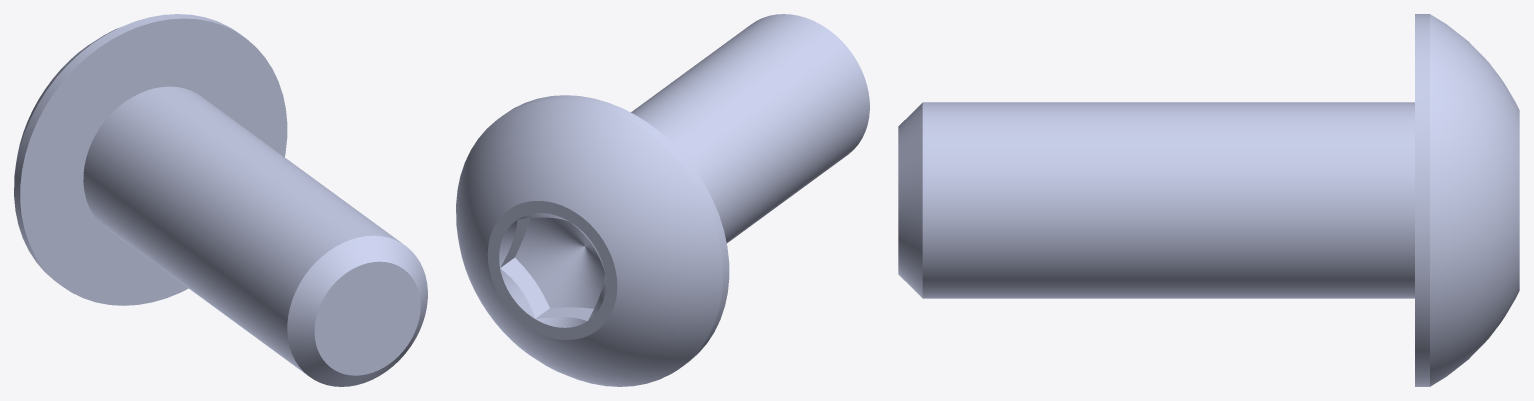
The model's file is Cut_Extrude2.obj.
3 renders of one model, left to right at view 1: azimuth 30°, elevation 25°; view 2: azimuth 150°, elevation 25°; view 3: azimuth 270°, elevation 25°, orthographic. The views are drawn at different scales.
Visible parts, largest first — view 1: mesh27706, mesh27707, mesh27708, mesh27711, mesh27709, mesh27710, mesh27704, mesh27705, mesh27703; view 2: mesh27703, mesh27707, mesh27708, mesh27702, mesh27701, mesh27691, mesh27688, mesh27704, mesh27705, mesh27698, mesh27696, mesh27689 (+2 smaller); view 3: mesh27707, mesh27702, mesh27703, mesh27704, mesh27708, mesh27709.
Boxes of the visible parts, <box> form: mesh27706: <box>20,18,287,305</box>; mesh27707: <box>101,86,402,275</box>; mesh27708: <box>83,127,306,374</box>; mesh27711: <box>314,261,420,375</box>; mesh27709: <box>305,235,427,346</box>; mesh27710: <box>287,276,410,386</box>; mesh27704: <box>47,14,243,94</box>; mesh27705: <box>14,91,58,283</box>; mesh27703: <box>14,28,118,178</box>; mesh27703: <box>499,99,723,370</box>; mesh27707: <box>631,14,852,169</box>; mesh27708: <box>695,54,869,243</box>; mesh27702: <box>456,116,676,386</box>; mesh27701: <box>487,201,617,339</box>; mesh27691: <box>535,243,604,308</box>; mesh27688: <box>515,217,590,280</box>; mesh27704: <box>503,95,696,175</box>; mesh27705: <box>685,172,729,364</box>; mesh27698: <box>500,257,549,318</box>; mesh27696: <box>536,307,593,320</box>; mesh27689: <box>500,218,529,267</box>; mesh27707: <box>922,102,1414,290</box>; mesh27702: <box>1430,124,1519,386</box>; mesh27703: <box>1430,14,1519,163</box>; mesh27704: <box>1415,14,1429,370</box>; mesh27708: <box>922,290,1414,298</box>; mesh27709: <box>898,103,922,289</box>.
Bounding box in the file's own units: 0.00916 × 0.00917 × 0.0153.
